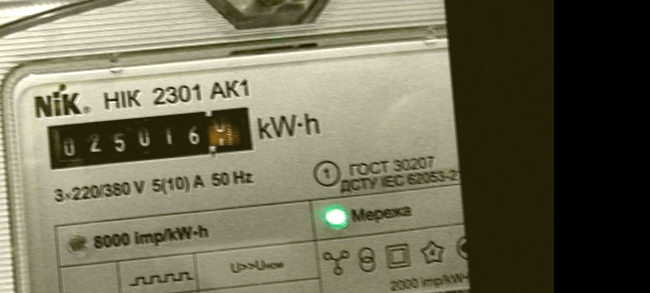0: (139, 126, 155, 150), (64, 137, 79, 160), (215, 115, 228, 136)
1: (164, 123, 177, 149), (219, 138, 227, 149)
2: (90, 132, 105, 156)
5: (115, 133, 128, 155)
6: (188, 124, 203, 150)
screen: (39, 99, 266, 179)
